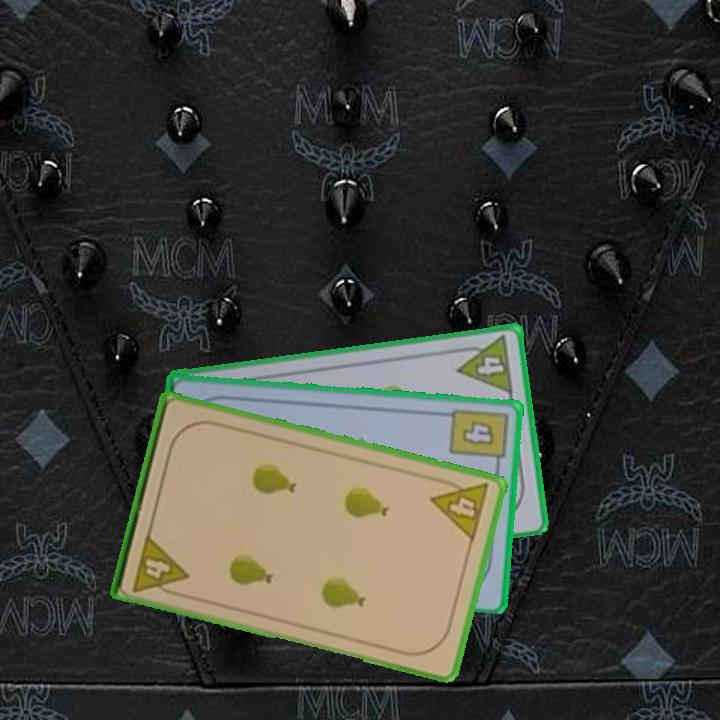4b: (446, 404, 510, 472)
4p: (427, 473, 492, 545), (129, 530, 191, 600), (451, 332, 516, 397)
